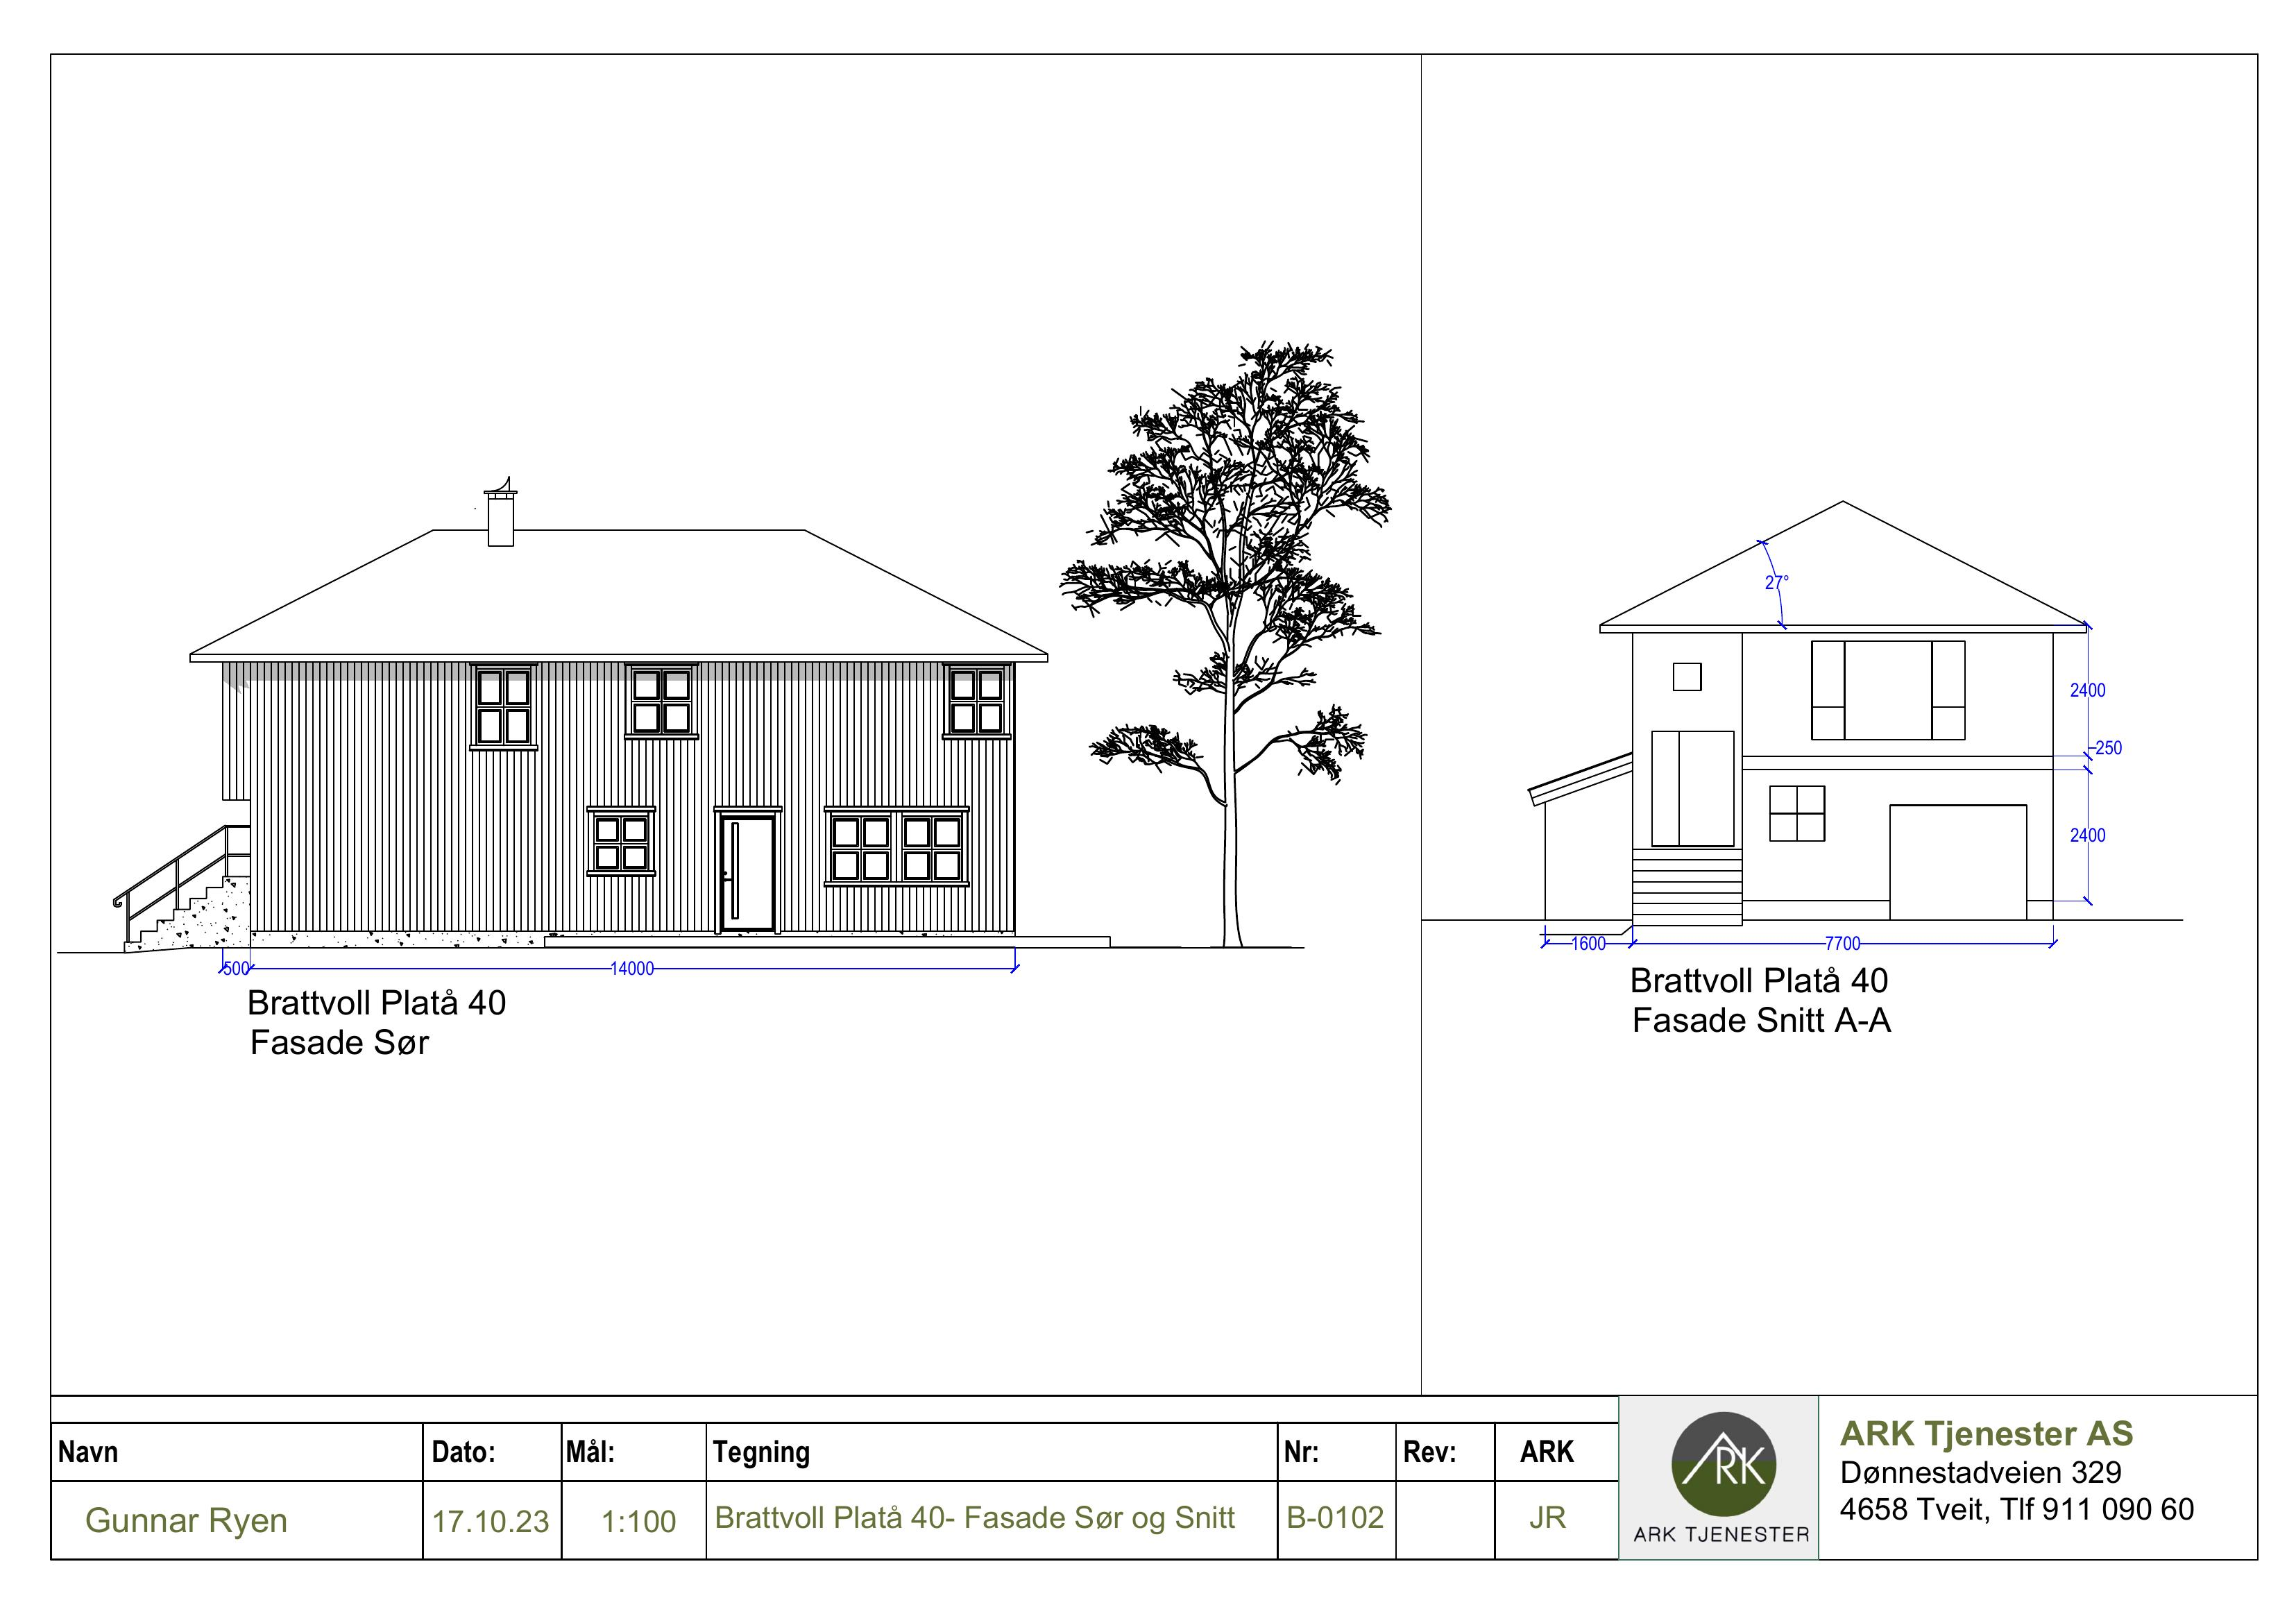fasade: (117, 472, 1064, 980)
snitt: (1527, 484, 2143, 964)
